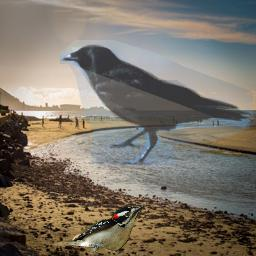Crow: (60, 40, 253, 167)
Woodpecker: (54, 203, 145, 255)
